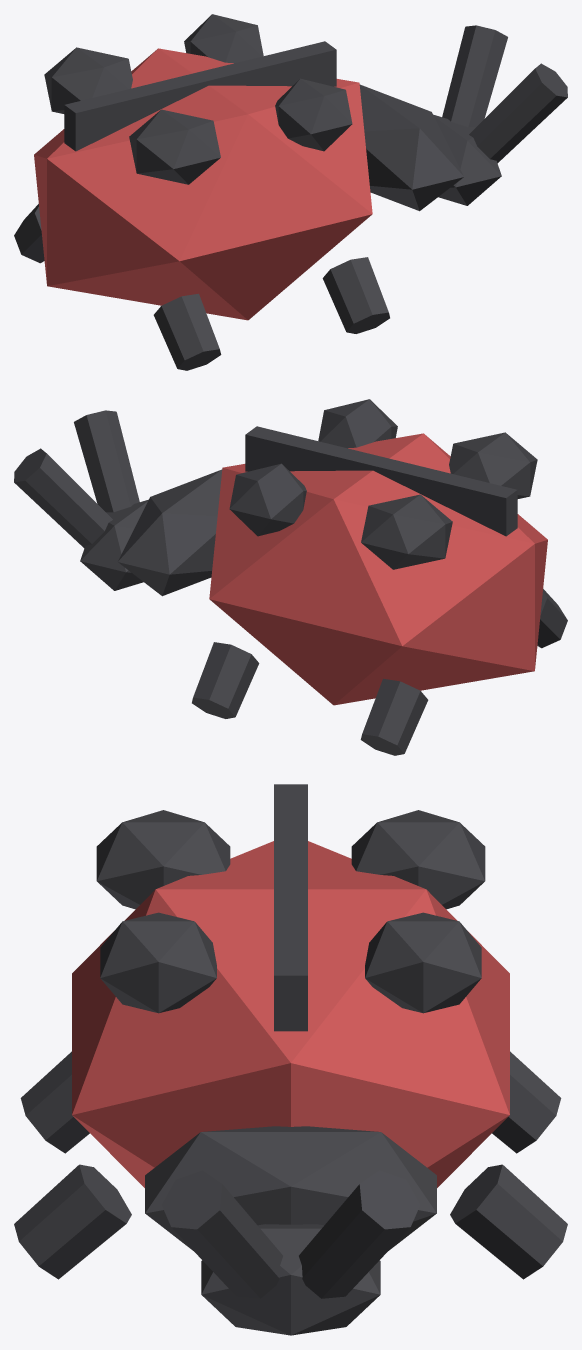
The picture shows the model from 3 angles, top to bottom: view 1: azimuth 30°, elevation 25°; view 2: azimuth 150°, elevation 25°; view 3: azimuth 270°, elevation 25°; orthographic projection. The views are drawn at different scales.
Visible parts, largest first — view 1: part0, part1, part6, part5, part9, part8, part3, part4, part11, part13, part7, part2 (+1 smaller); view 2: part0, part1, part6, part4, part8, part9, part2, part5, part10, part12, part7, part3 (+1 smaller); view 3: part0, part6, part2, part3, part7, part4, part5, part8, part9, part1, part10, part11 (+2 smaller).
Part boxes in pixels (x1,y1,x2,y2): part0: [34, 48, 372, 320]; part1: [64, 41, 336, 151]; part6: [359, 84, 463, 211]; part5: [129, 109, 220, 184]; part9: [469, 63, 567, 163]; part8: [442, 25, 507, 127]; part3: [275, 78, 352, 151]; part4: [44, 47, 132, 113]; part11: [322, 257, 389, 333]; part13: [153, 293, 221, 370]; part7: [433, 114, 501, 205]; part2: [184, 14, 263, 63]; part0: [209, 433, 547, 705]; part1: [245, 426, 517, 536]; part6: [118, 469, 222, 596]; part4: [361, 494, 452, 569]; part8: [14, 448, 112, 548]; part9: [74, 410, 139, 512]; part2: [229, 463, 306, 536]; part5: [449, 432, 537, 498]; part10: [192, 642, 259, 718]; part12: [360, 678, 428, 755]; part7: [80, 499, 148, 590]; part3: [318, 399, 397, 448]; part0: [72, 841, 509, 1187]; part6: [145, 1126, 436, 1250]; part2: [365, 912, 481, 1013]; part3: [100, 912, 216, 1013]; part7: [201, 1224, 380, 1335]; part4: [351, 810, 485, 909]; part5: [96, 810, 230, 909]; part8: [299, 1170, 419, 1298]; part9: [162, 1170, 282, 1298]; part1: [274, 784, 307, 1031]; part10: [450, 1164, 567, 1279]; part11: [14, 1164, 131, 1279].
Bounding box in the file's own units: 3.46 × 1.53 × 2.26.
